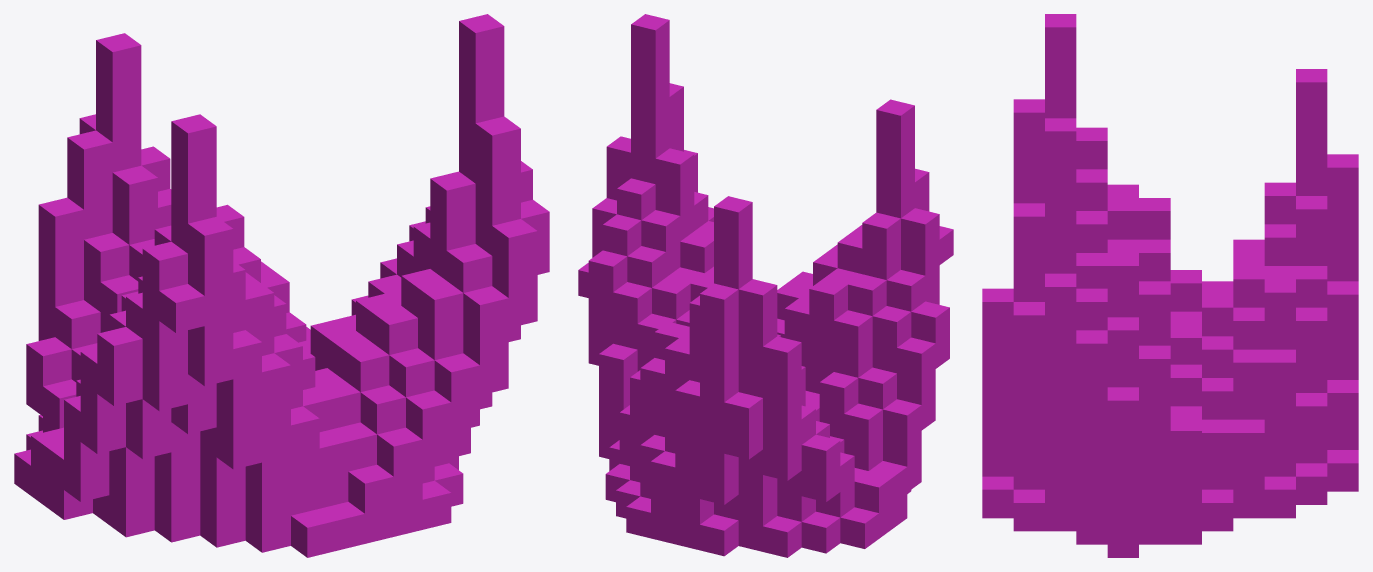
The model's file is cave-0.obj.
3 renders of one model, left to right at view 1: azimuth 30°, elevation 25°; view 2: azimuth 150°, elevation 25°; view 3: azimuth 270°, elevation 25°, orthographic. The views are drawn at different scales.
Size of the model in its own units: 1.4 by 1.5 by 1.2.
1 material, 1 textured.
